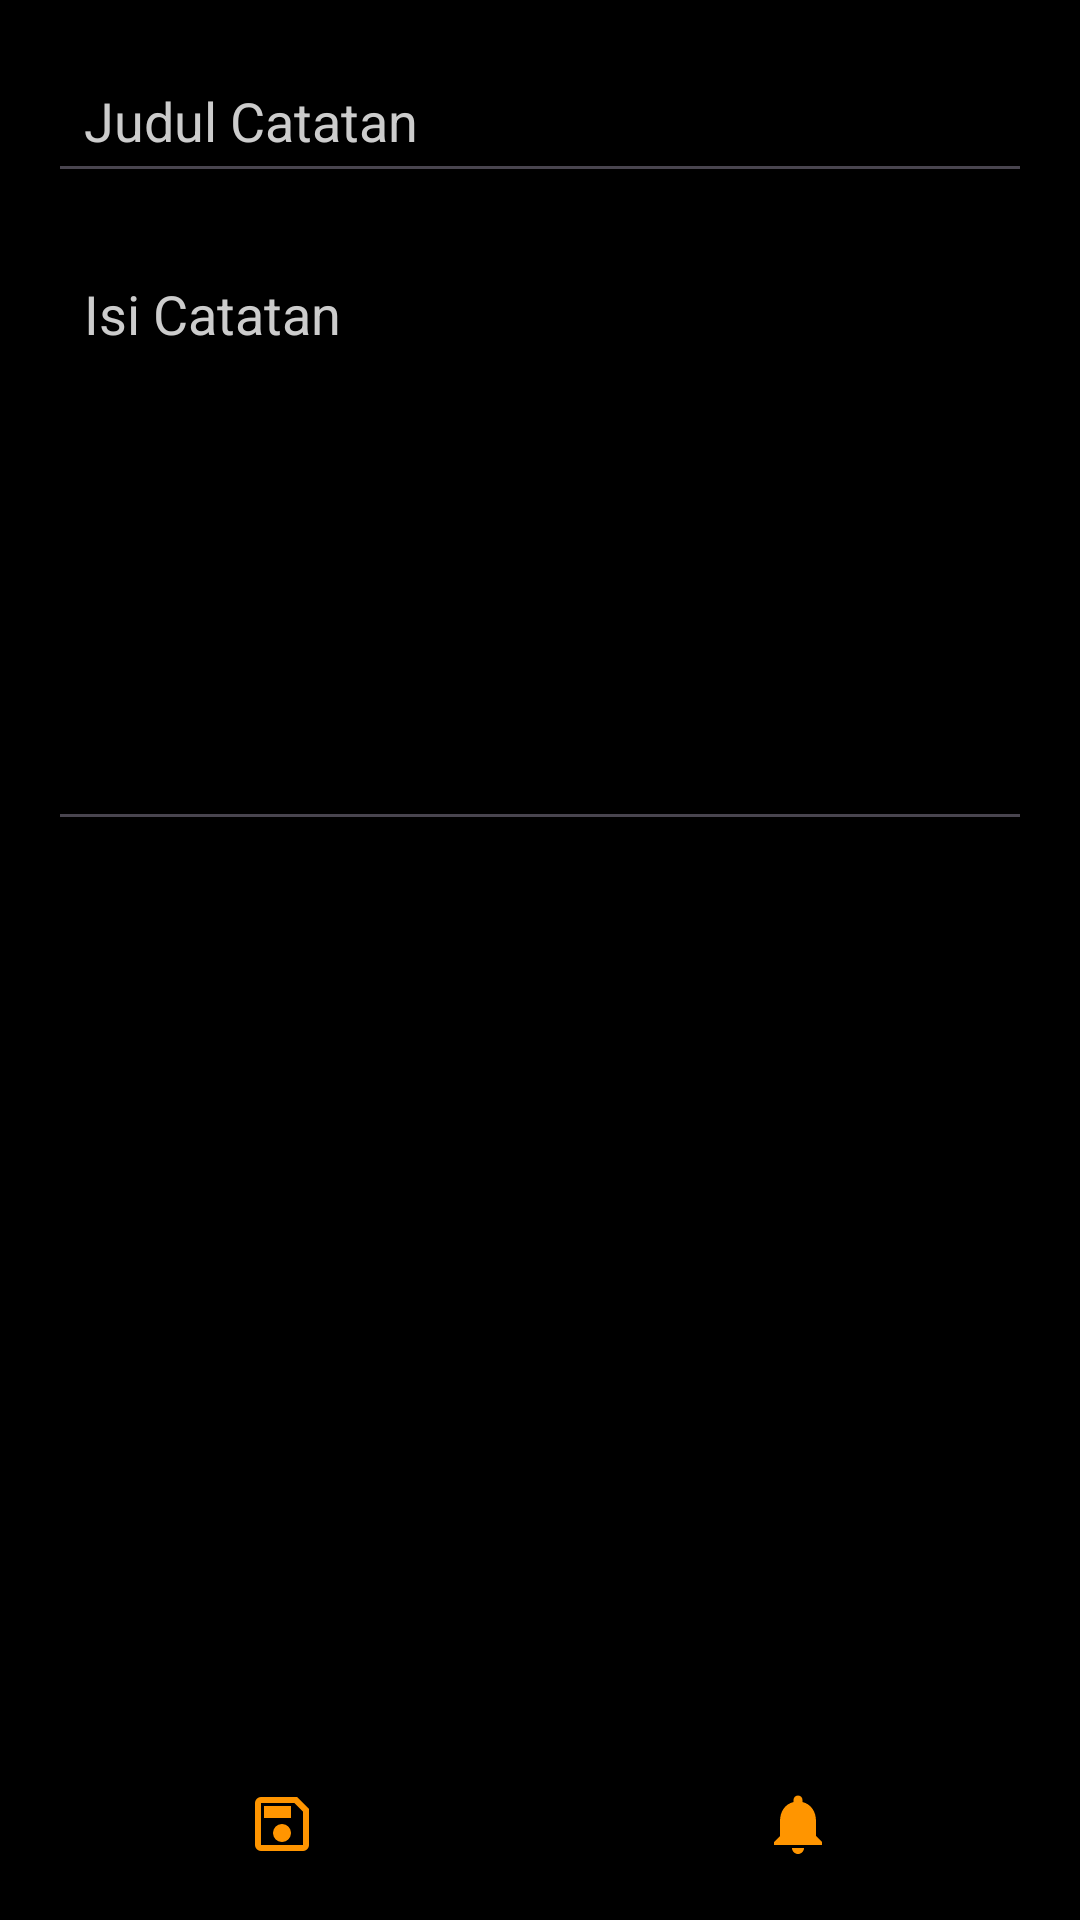

Named icons in this screenshot (1080px×1920px) and their bounding boxes, bbox(x1, y1, x2, y2):
Setel Pengingat: bbox(774, 1795, 822, 1854)
Simpan Catatan: bbox(255, 1797, 309, 1851)
